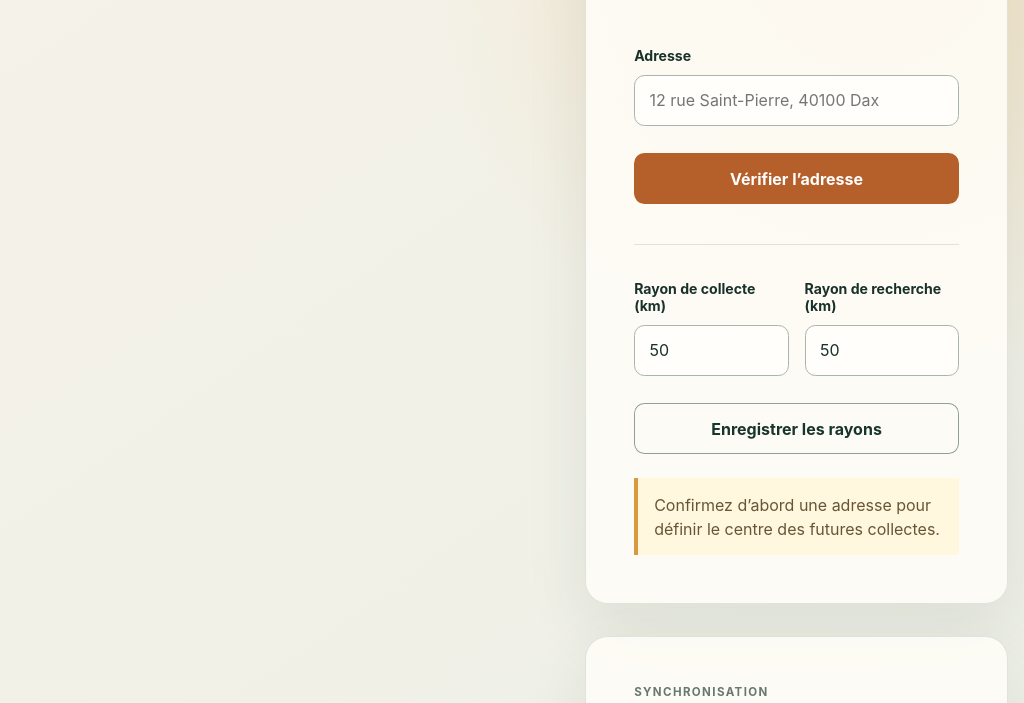
Test case: authentication interface › updates the search radius without making a geocoding request
This screenshot has width=1024, height=703.
(page scrolled)
Step 1. Replace the text in the number field labelled "Rayon de recherche (km)" with "30" → (882, 350), box [805,325,959,376]
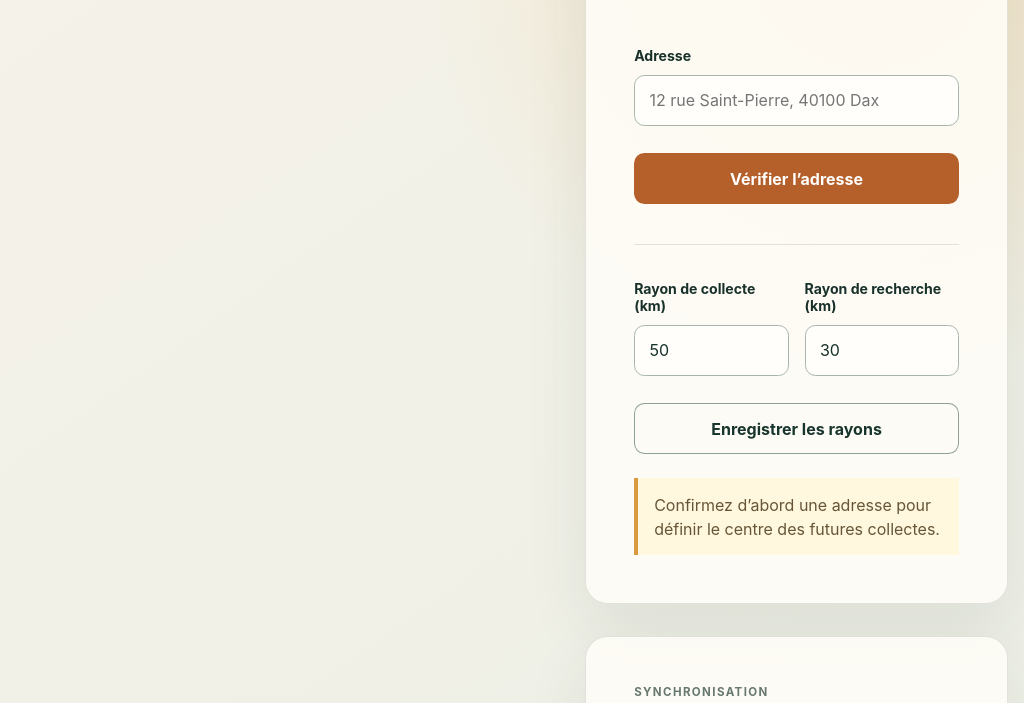
Step 2. Click the button "Enregistrer les rayons" → click(797, 429), box [634,403,959,454]
(page scrolled)
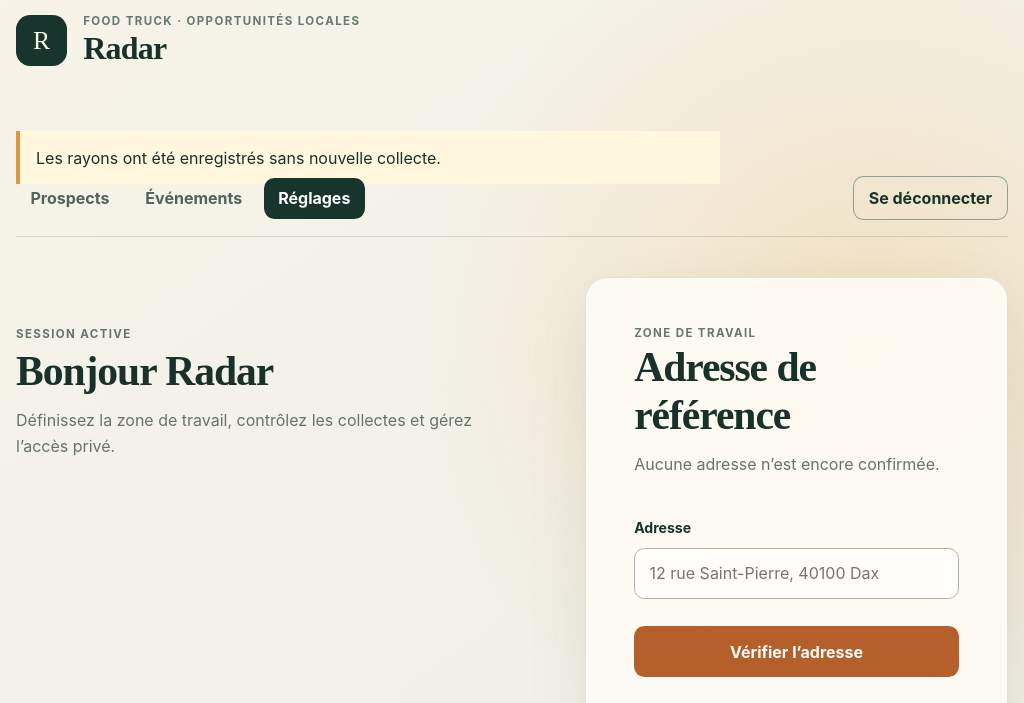
Now the text "Les rayons ont été enregistrés sans nouvelle collecte." is shown, box [16,131,720,184]
